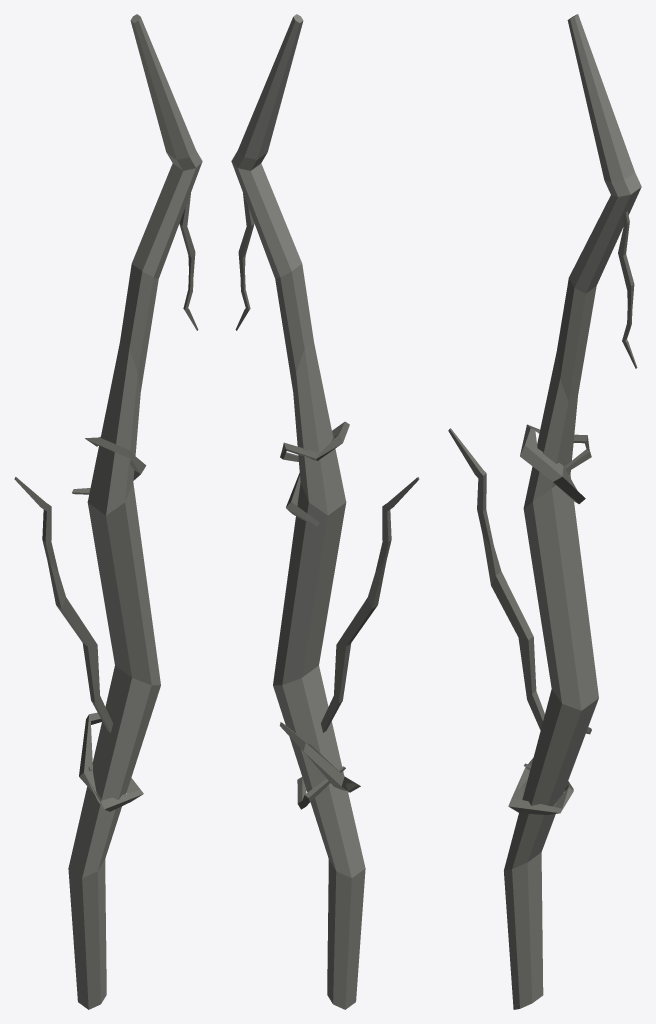
Rendered from BRANCH.fbx.
3 renders of one model, left to right at view 1: azimuth 30°, elevation 25°; view 2: azimuth 150°, elevation 25°; view 3: azimuth 330°, elevation 25°, orthographic. The views are drawn at different scales.
Parts seen in each view (by area): view 1: pCube24; view 2: pCube24; view 3: pCube24.
Part boxes in pixels (x1,y1,x2,y2): pCube24: (14,14,202,1009); pCube24: (231,14,419,1009); pCube24: (448,14,641,1009).
Bounding box in the file's own units: 4.6 × 23.45 × 2.03.
Materials: 1 (1 with a texture image).
